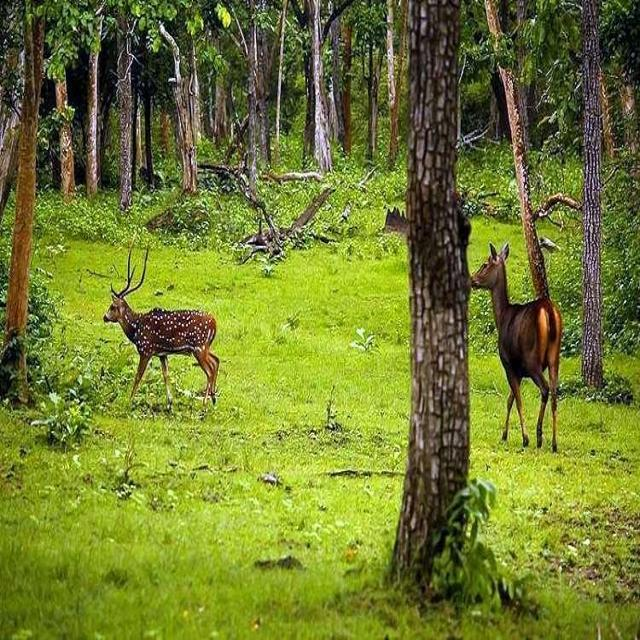Deer: (458, 230, 581, 450), (79, 254, 234, 423)
